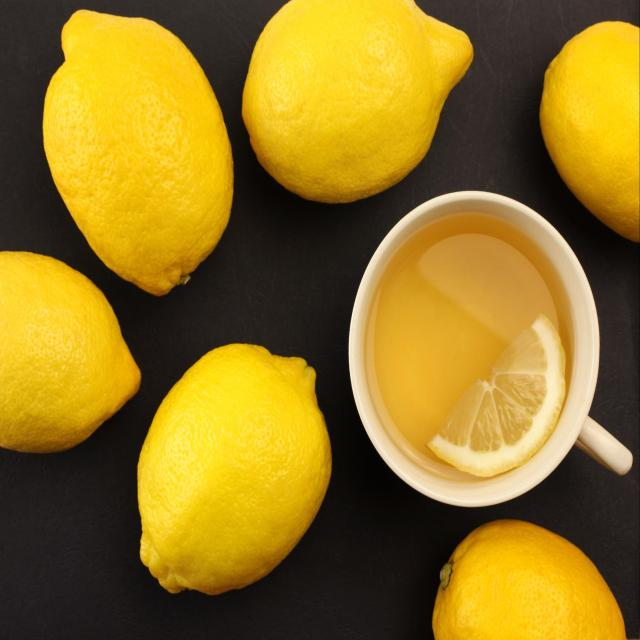lemon: (133, 337, 340, 605)
